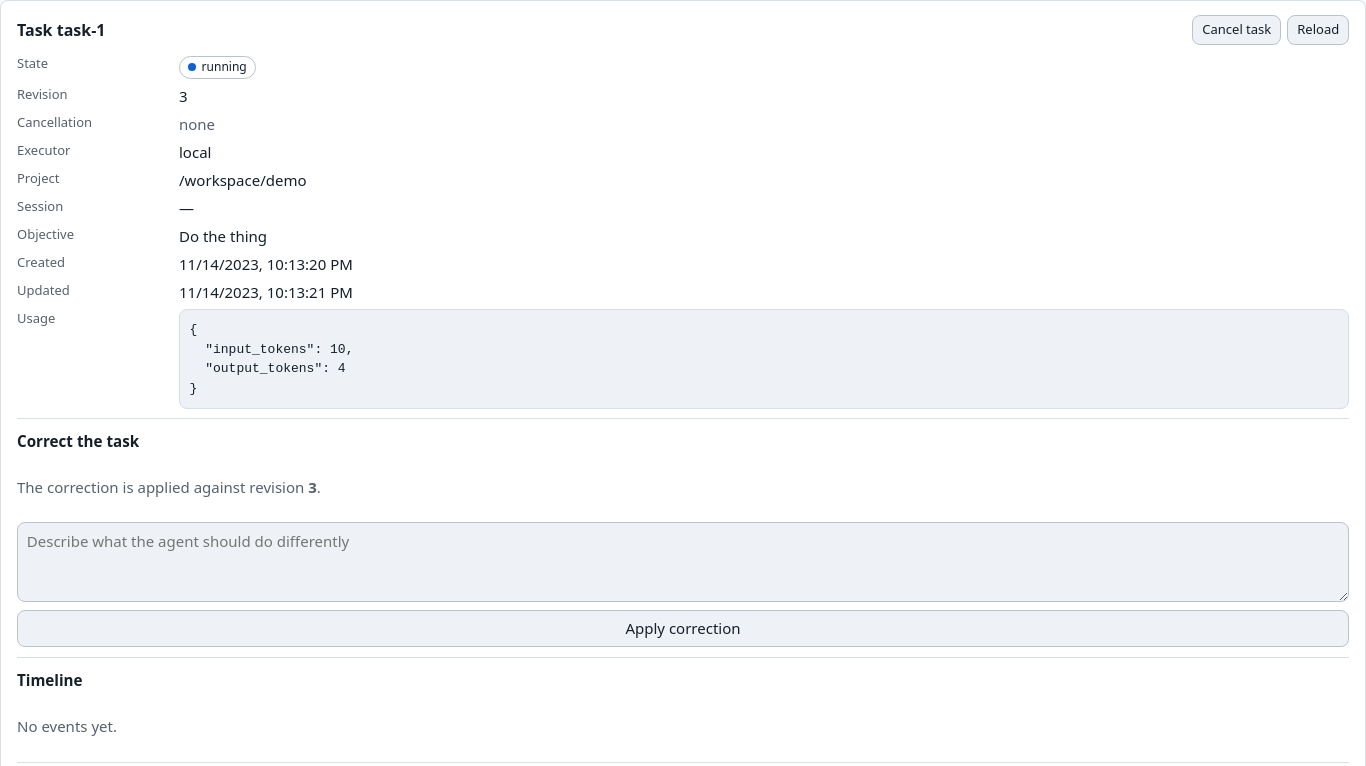
Scenario: task correction › surfaces a stale state message and reloads the task on 409
Expected: the text with test id "task-revision" reads "3", [179,86,188,106]
Type "take a different route" into the text box named "Correction instruction" at (683, 562), box [17,522,1349,602]
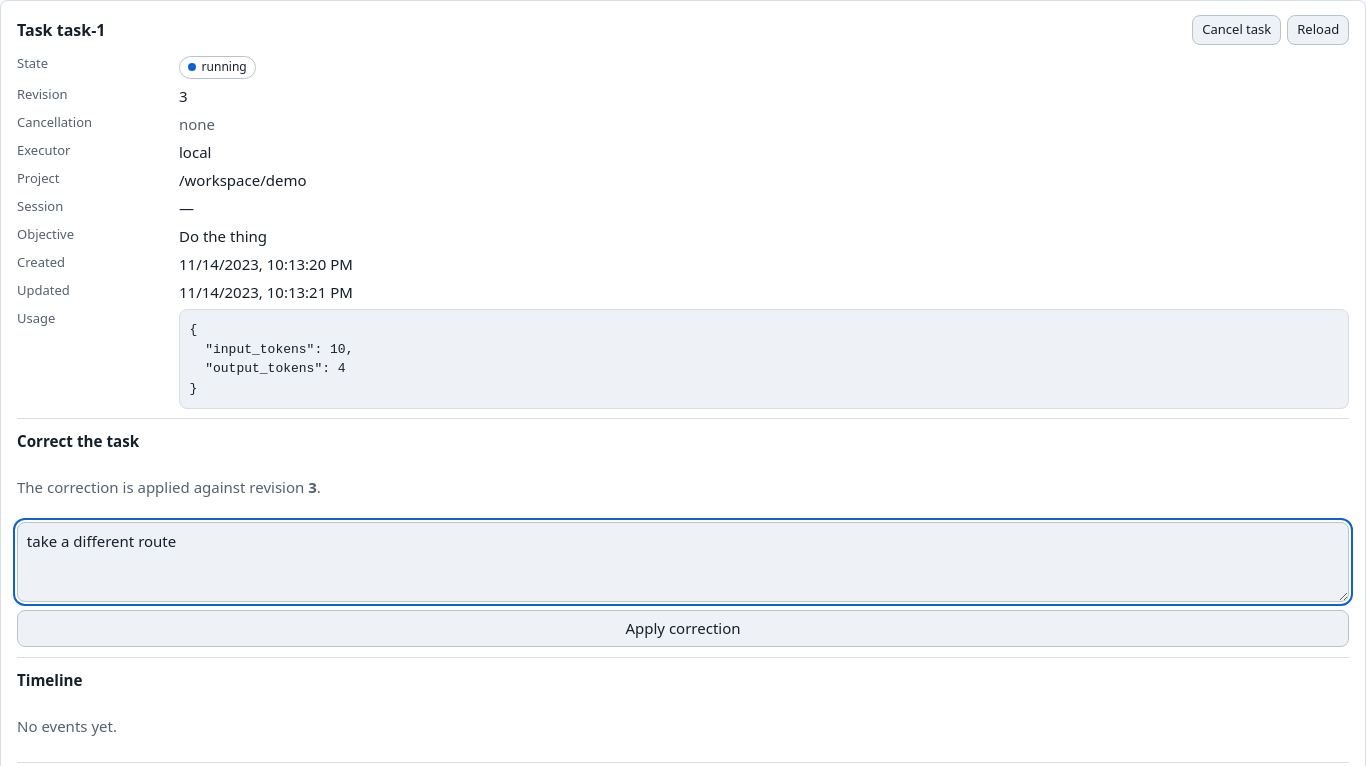
Click the button "Apply correction" at (683, 628), box [17,610,1349,647]
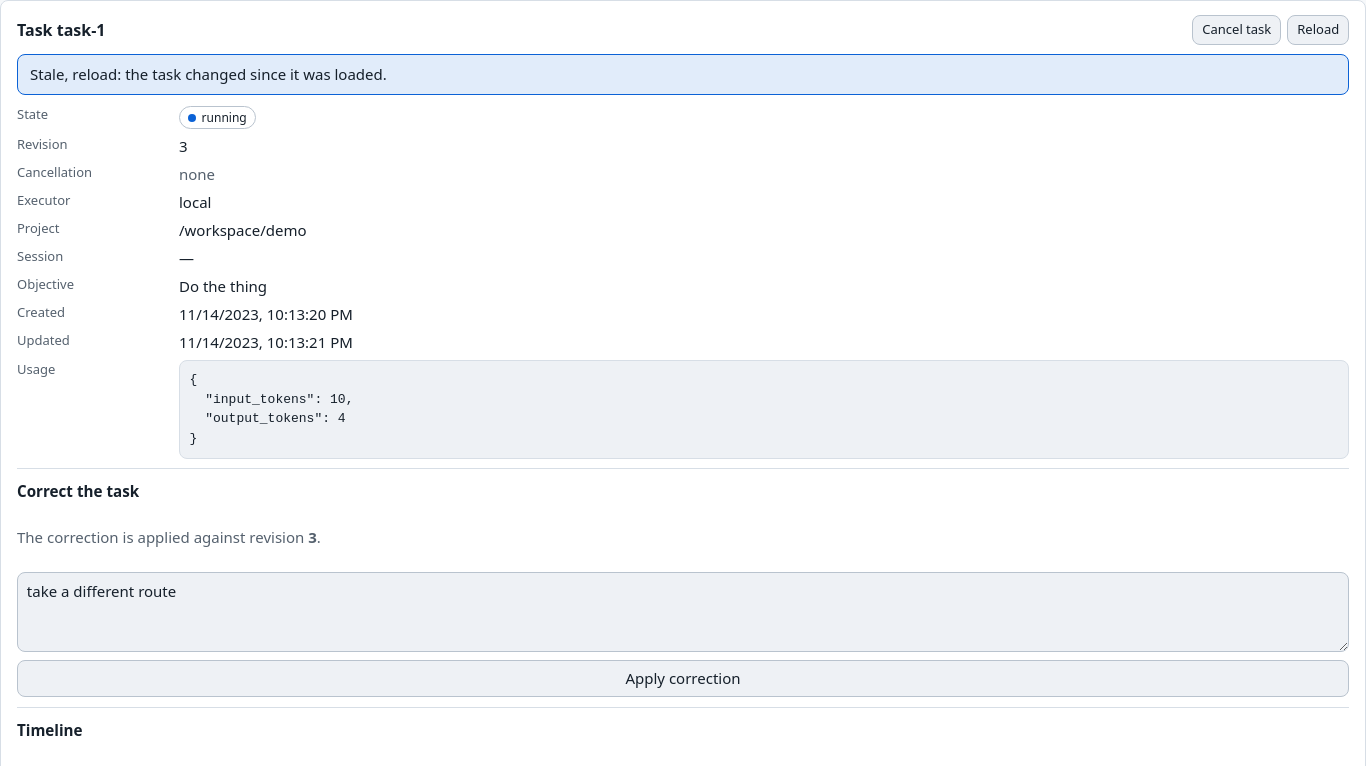
Now the message with test id "task-notice" shows "Stale", box [30,64,387,84]
